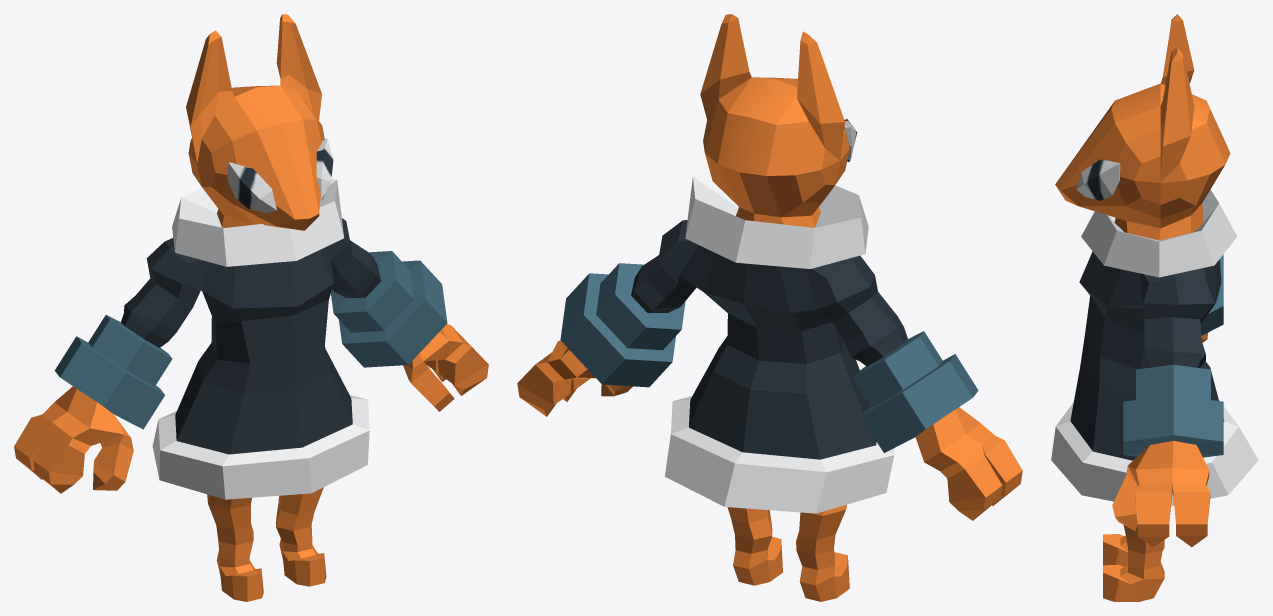
The model's file is Enemy_MDL.fbx.
The picture shows the model from 3 angles, left to right: view 1: azimuth 30°, elevation 25°; view 2: azimuth 150°, elevation 25°; view 3: azimuth 270°, elevation 25°; orthographic projection. The views are drawn at different scales.
Visible parts, largest first — view 1: Enemy; view 2: Enemy; view 3: Enemy.
Boxes of the visible parts, bbox=[...] form: Enemy: bbox=[14, 14, 488, 601]; Enemy: bbox=[517, 14, 1022, 601]; Enemy: bbox=[1051, 14, 1258, 601].
Size of the model in its own units: 1.53 by 1.81 by 0.6217.
